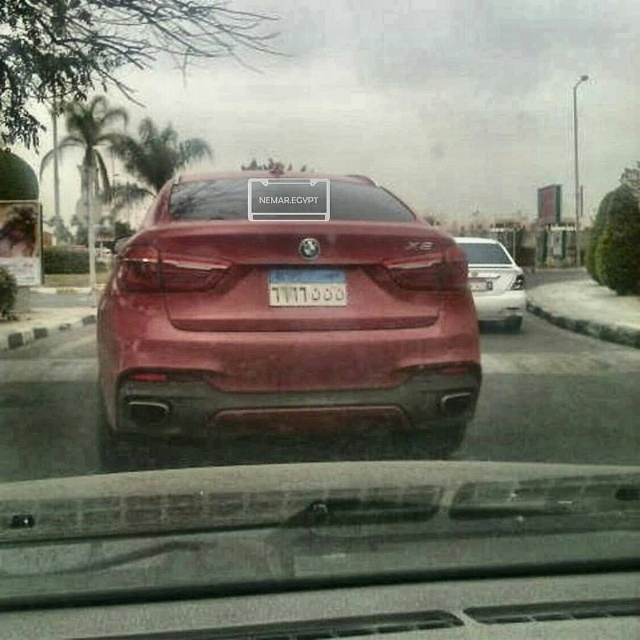License Plate: (265, 265, 350, 309)
